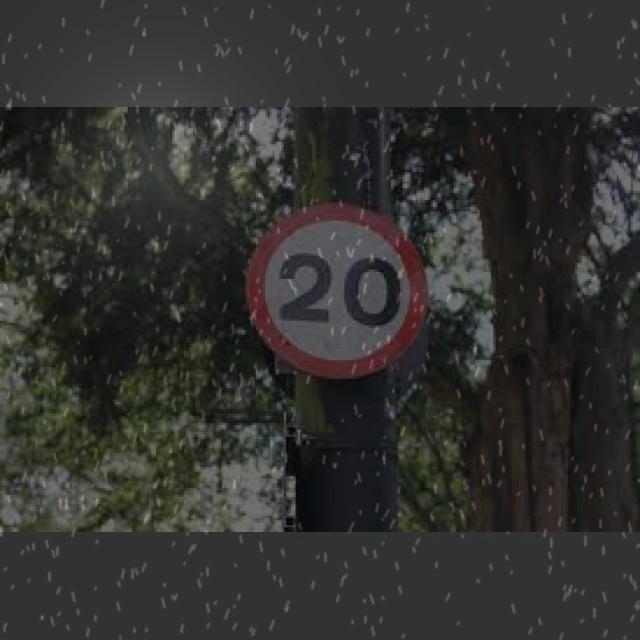Speed_Limit_20: (243, 205, 433, 378)
